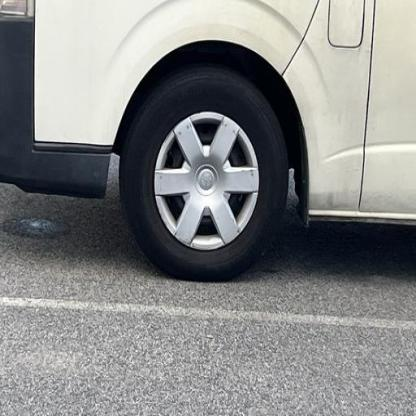Tire: (118, 64, 288, 281)
